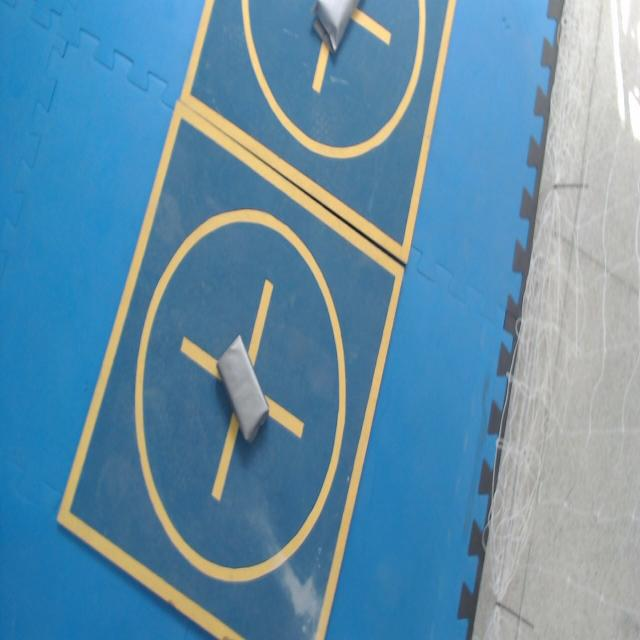lipo: (218, 336, 268, 441), (312, 0, 358, 52)
